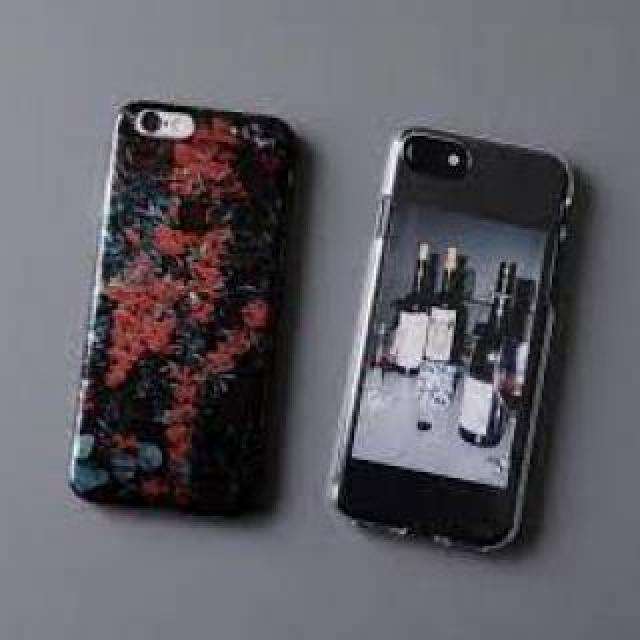smart phone: (314, 48, 584, 587), (60, 60, 292, 540)
